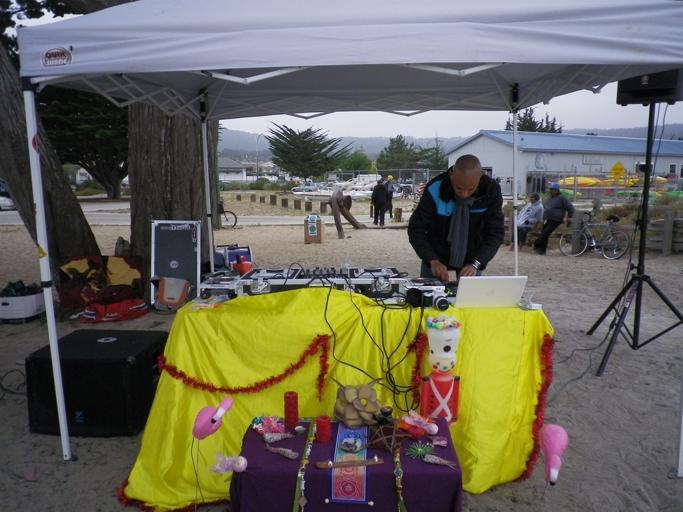non-vehicle: (558, 211, 629, 259), (207, 196, 237, 228)
